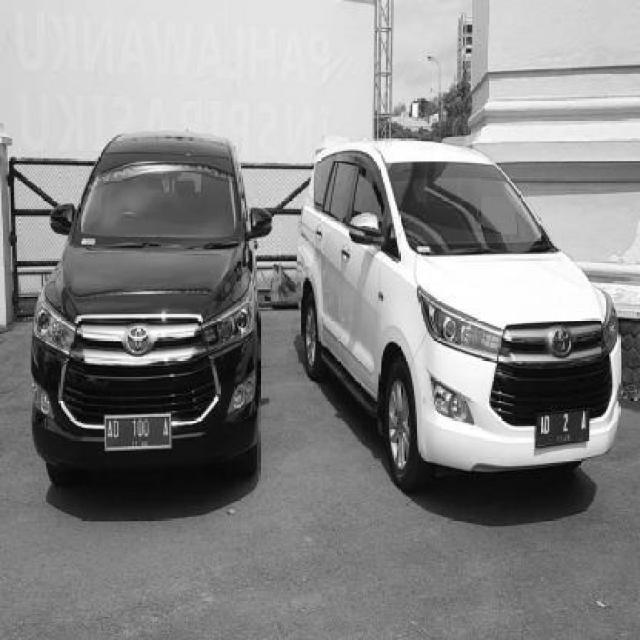0: (142, 418, 153, 438), (136, 419, 144, 437)
1: (130, 419, 139, 440)
2: (560, 412, 572, 433)
A: (580, 410, 588, 438), (161, 418, 169, 439), (106, 421, 114, 438), (540, 416, 544, 436)
D: (544, 416, 552, 434), (113, 421, 121, 438)
